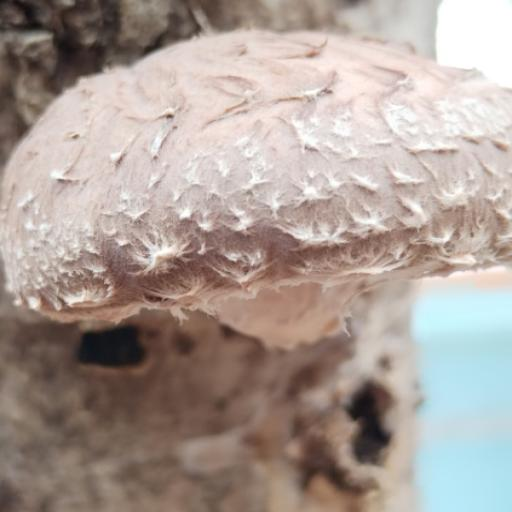Shiitake Mushroom: (5, 30, 512, 339)
